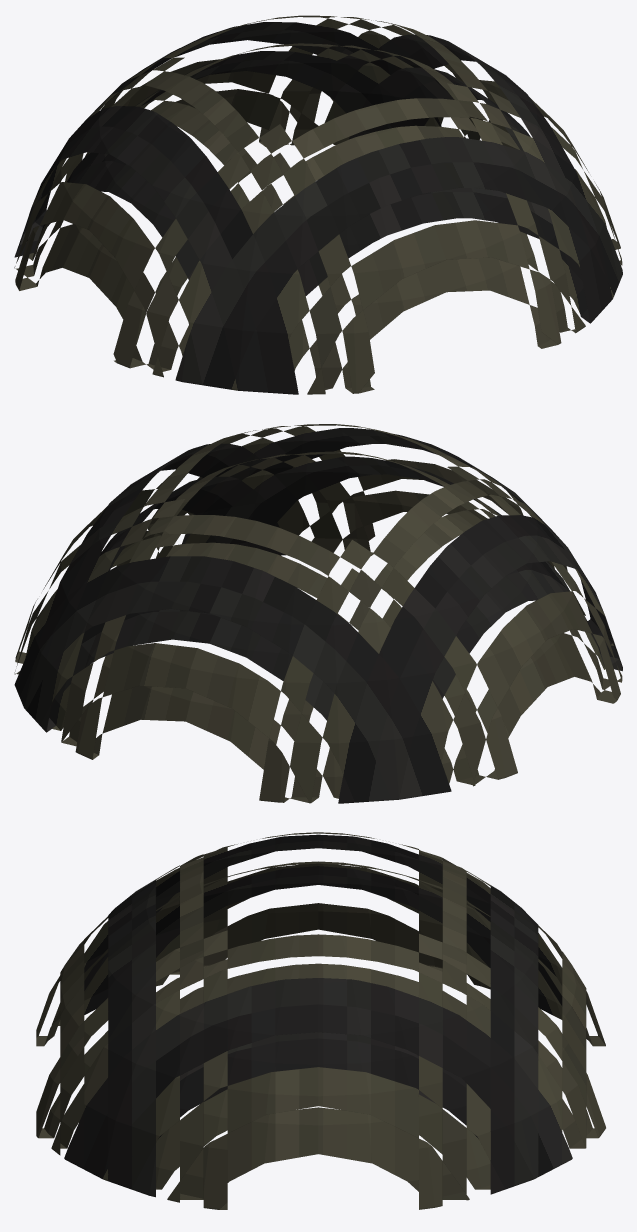
The model's file is Domo.obj.
3 views of the same model, one above another, from view 1: azimuth 30°, elevation 25°; view 2: azimuth 150°, elevation 25°; view 3: azimuth 270°, elevation 25° (orthographic).
Parts seen in each view (by area): view 1: fachada_sin_la_union_de_la_esfera.001; view 2: fachada_sin_la_union_de_la_esfera.001; view 3: fachada_sin_la_union_de_la_esfera.001.
Part boxes in pixels (x1,y1,x2,y2): fachada_sin_la_union_de_la_esfera.001: (14,15,622,394); fachada_sin_la_union_de_la_esfera.001: (14,424,622,803); fachada_sin_la_union_de_la_esfera.001: (36,832,605,1209).
Size of the model in its own units: 12.31 by 4.96 by 12.14.
Materials: 1 (1 with a texture image).
